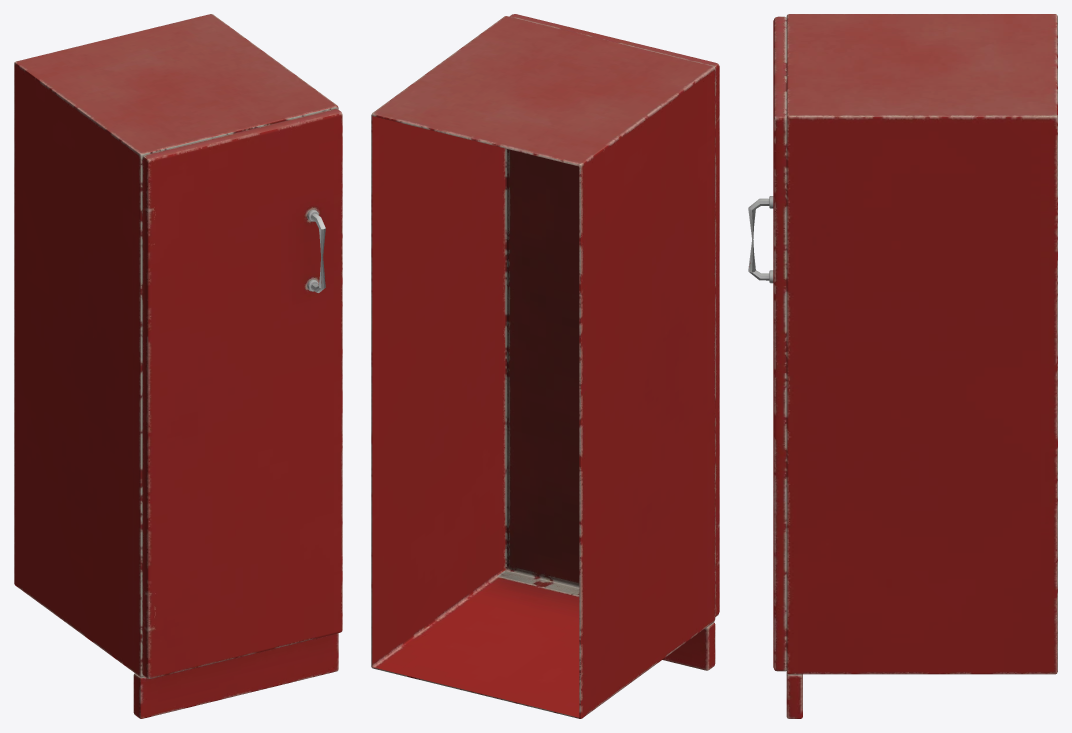
File: kit_upper_30_red.glb
3 views of the same model, side by side, from view 1: azimuth 30°, elevation 25°; view 2: azimuth 150°, elevation 25°; view 3: azimuth 270°, elevation 25° (orthographic). The views are drawn at different scales.
Parts seen in each view (by area): view 1: kit_upper_30_red; view 2: kit_upper_30_red; view 3: kit_upper_30_red.
Part boxes in pixels (x1=…): kit_upper_30_red: x1=14, y1=14, x2=342, y2=718; kit_upper_30_red: x1=371, y1=14, x2=719, y2=718; kit_upper_30_red: x1=748, y1=14, x2=1057, y2=718.
Size of the model in its own units: 0.298 by 0.81 by 0.3768.
1 material, 1 textured.
